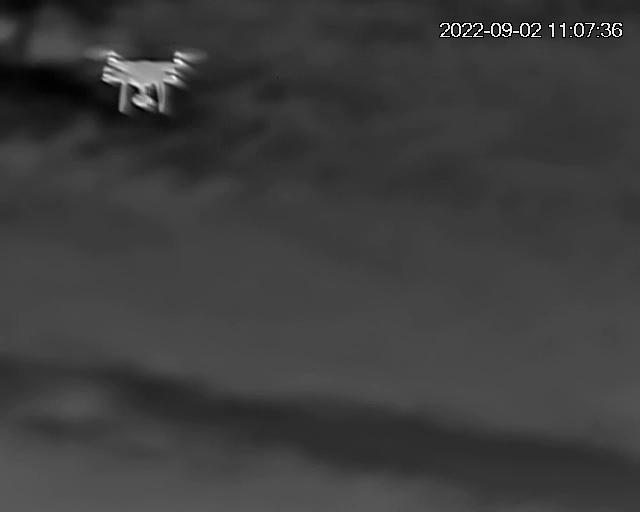DJI-Phantom: (90, 48, 200, 118)
